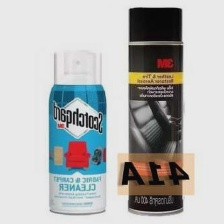aerosol_cans: (124, 5, 186, 219), (46, 45, 109, 218)
